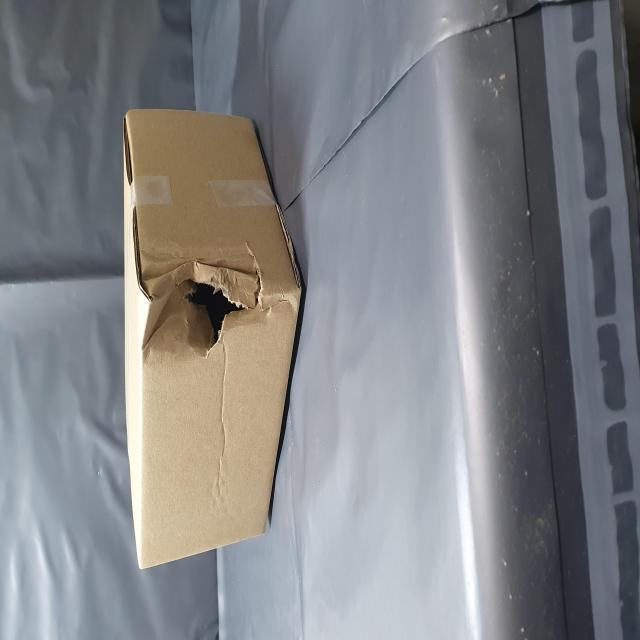damaged: (153, 250, 224, 480)
